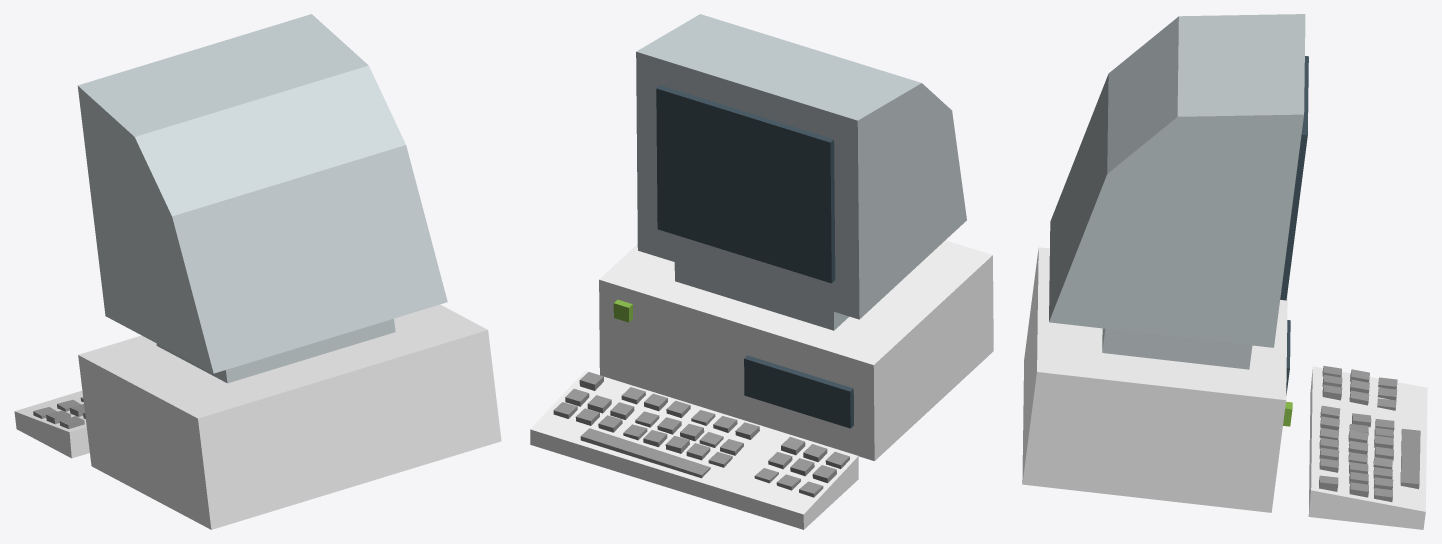
File: computer.gltf
The picture shows the model from 3 angles, left to right: view 1: azimuth 30°, elevation 25°; view 2: azimuth 150°, elevation 25°; view 3: azimuth 270°, elevation 25°; orthographic projection. The views are drawn at different scales.
Parts seen in each view (by area): view 1: group861517382, group1631870305, group2115554823, group1639888595; view 2: group861517382, group1631870305, group1262710399, group1639888595, group2131501692, group2115554823, group1139380957, group806411317, group396267525, group1625508101; view 3: group861517382, group1631870305, group1639888595, group2115554823, group1262710399, group1139380957, group396267525, group806411317, group1625508101.
Boxes of the visible parts, bbox=[...] form: group861517382: bbox=[77, 14, 447, 373]; group1631870305: bbox=[78, 304, 501, 529]; group2115554823: bbox=[156, 318, 395, 383]; group1639888595: bbox=[14, 390, 89, 458]; group861517382: bbox=[636, 14, 966, 319]; group1631870305: bbox=[599, 240, 993, 460]; group1262710399: bbox=[656, 85, 835, 283]; group1639888595: bbox=[530, 371, 858, 529]; group2131501692: bbox=[744, 355, 853, 428]; group2115554823: bbox=[674, 262, 849, 330]; group1139380957: bbox=[580, 428, 710, 478]; group806411317: bbox=[781, 436, 849, 468]; group396267525: bbox=[768, 452, 836, 483]; group1625508101: bbox=[754, 468, 823, 497]; group861517382: bbox=[1049, 14, 1305, 347]; group1631870305: bbox=[1022, 247, 1287, 512]; group1639888595: bbox=[1308, 366, 1427, 529]; group2115554823: bbox=[1102, 328, 1252, 369]; group1262710399: bbox=[1280, 56, 1308, 300]; group1139380957: bbox=[1400, 428, 1420, 489]; group396267525: bbox=[1349, 369, 1369, 405]; group806411317: bbox=[1322, 366, 1342, 400]; group1625508101: bbox=[1377, 377, 1397, 410].
Size of the model in its own units: 0.3734 by 0.4801 by 0.4318.
